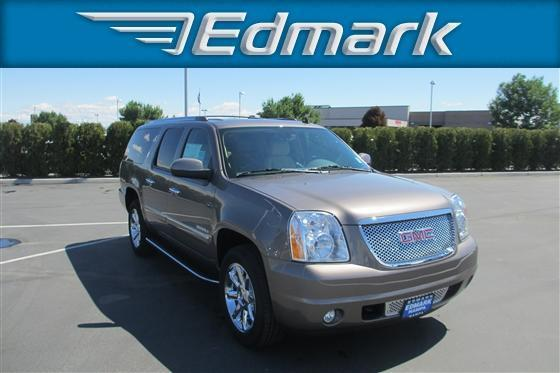GMC: (396, 226, 442, 244)
